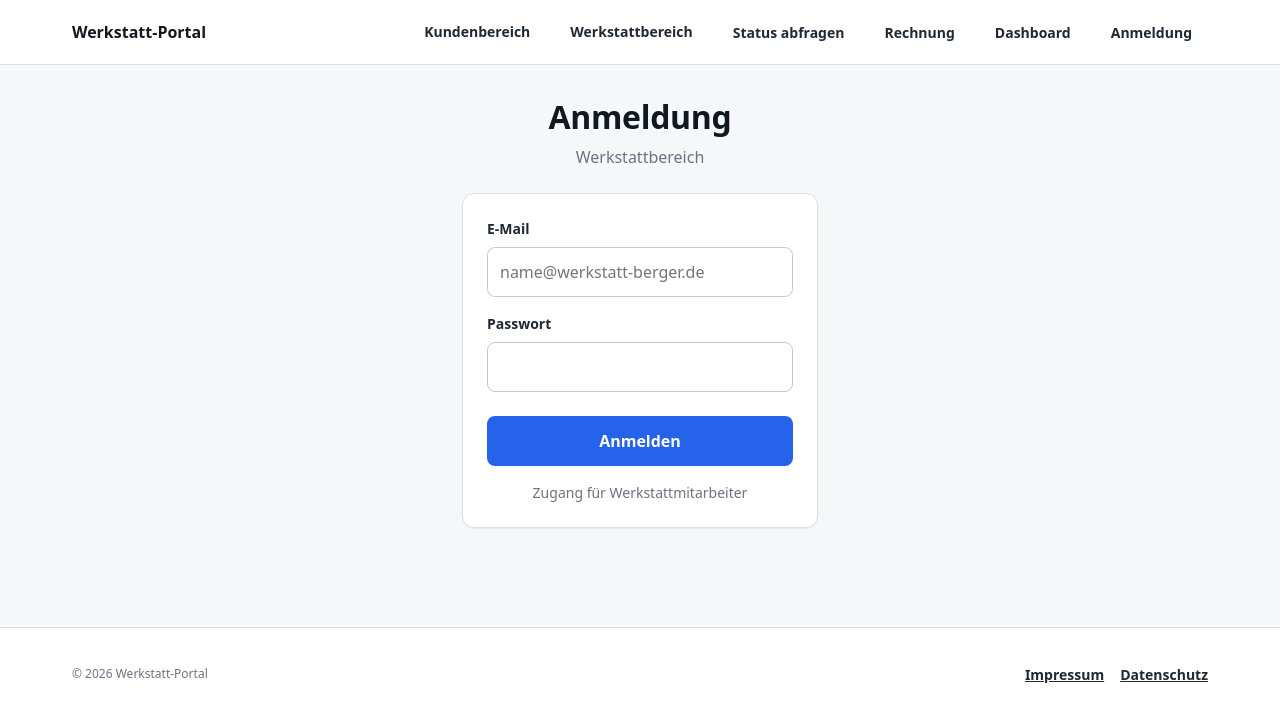
Scenario: ShopLogin › opens the requested workshop page after a successful login
The image size is (1280, 720).
Type "anna@werkstatt-berger.de" into the field labelled "E-Mail" at (640, 272), box [487,247,793,297]
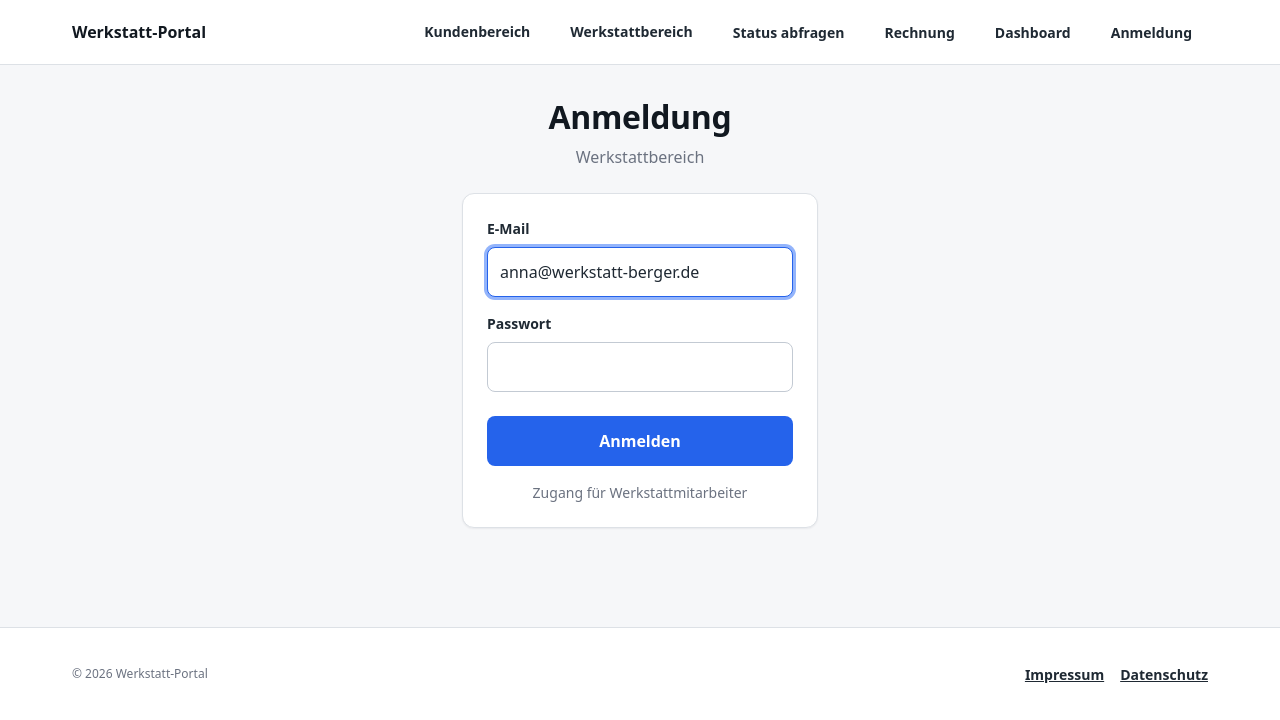
Type "geheim" into the password field labelled "Passwort" at (640, 367), box [487,342,793,392]
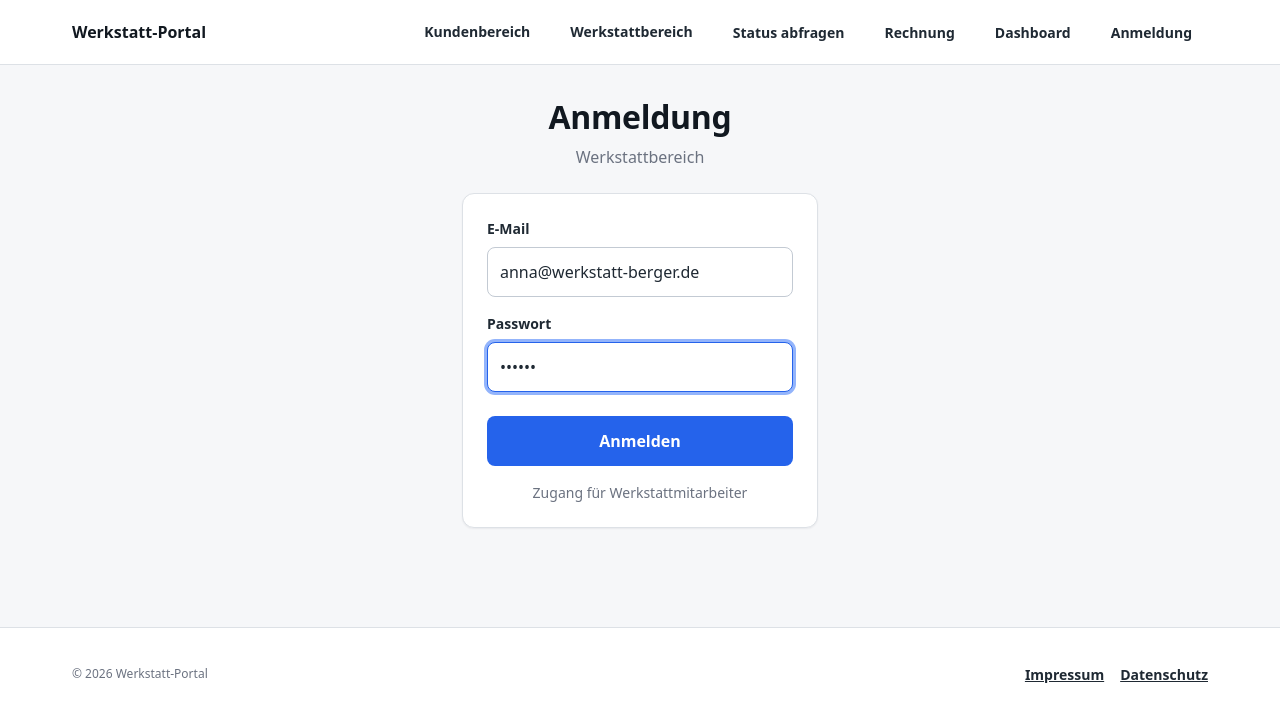
Click the button "Anmelden" at (640, 441), box [487,416,793,466]
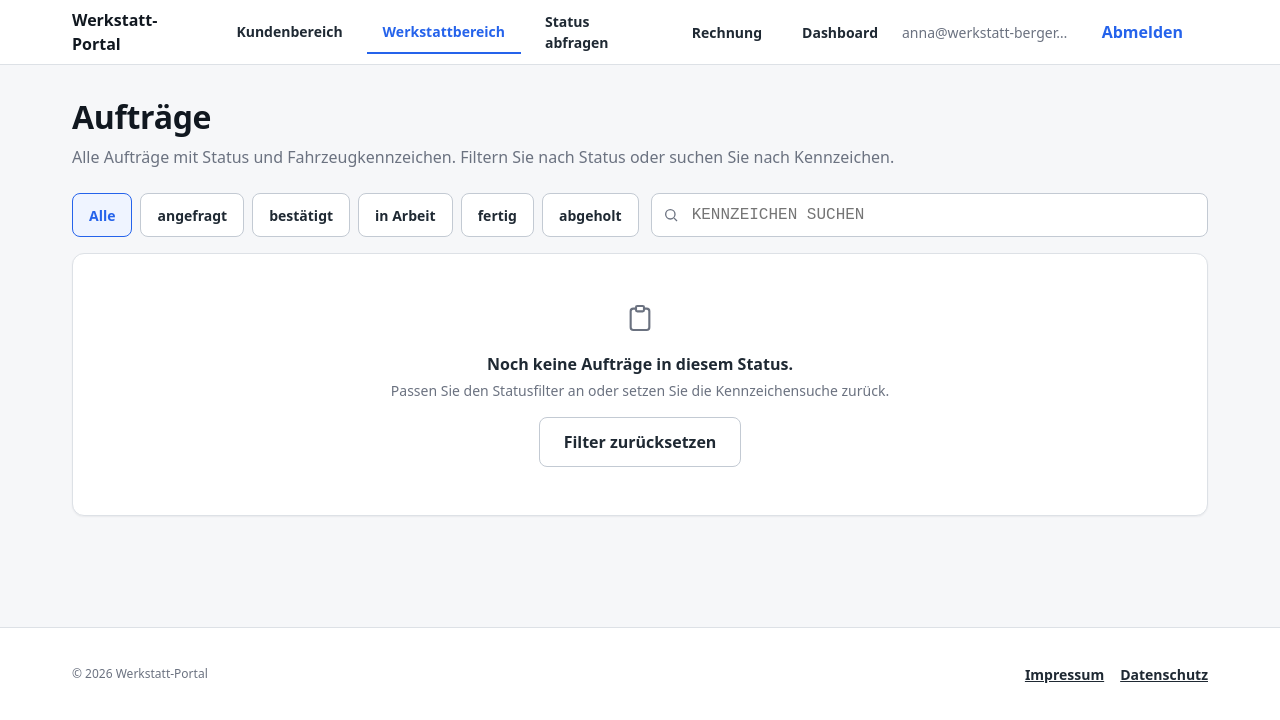
Now the heading "Aufträge" is shown, box [72,95,211,138]
Now the text "anna@werkstatt-berger.de" is shown, box [902,22,1069,42]
Now the button "Abmelden" is shown, box [1077,7,1208,57]
